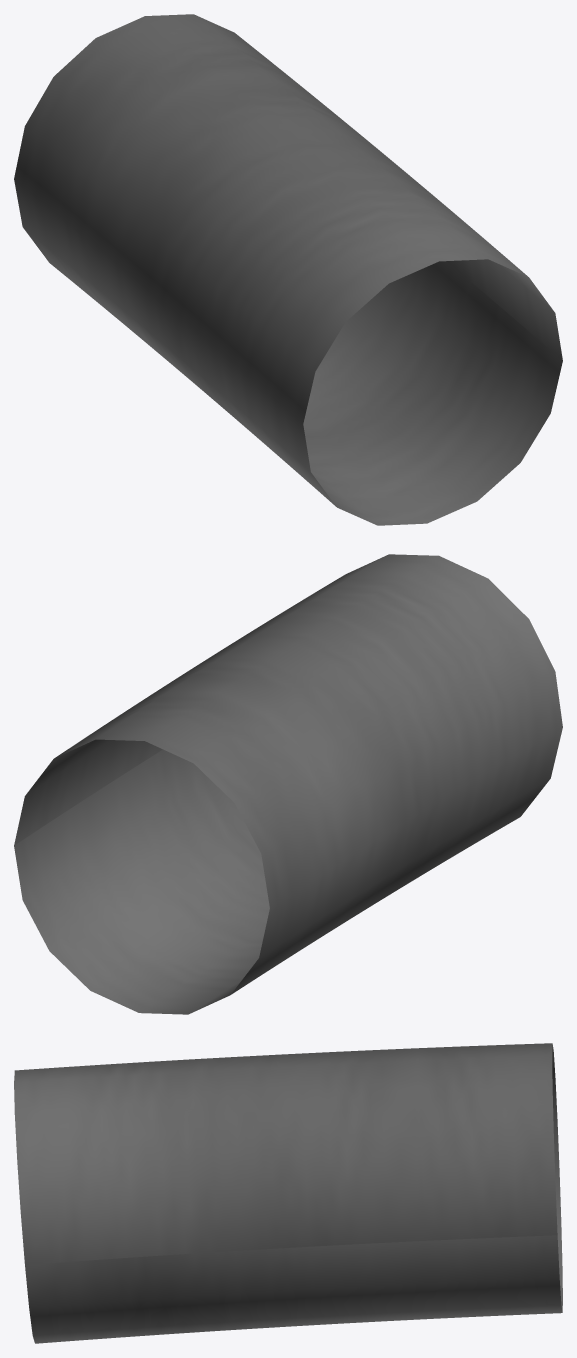
Rendered from mastarmcurve_10x2_c10.obj.
3 views of the same model, one above another, from view 1: azimuth 30°, elevation 25°; view 2: azimuth 150°, elevation 25°; view 3: azimuth 270°, elevation 25° (orthographic). The views are drawn at different scales.
Parts seen in each view (by area): view 1: mastarm_10x2_c10; view 2: mastarm_10x2_c10; view 3: mastarm_10x2_c10.
Boxes of the visible parts, <box> form: mastarm_10x2_c10: <box>14,14,562,525</box>; mastarm_10x2_c10: <box>14,554,562,1014</box>; mastarm_10x2_c10: <box>14,1043,562,1343</box>.
Bounding box in the file's own units: 0.515 × 0.5702 × 1.03.
